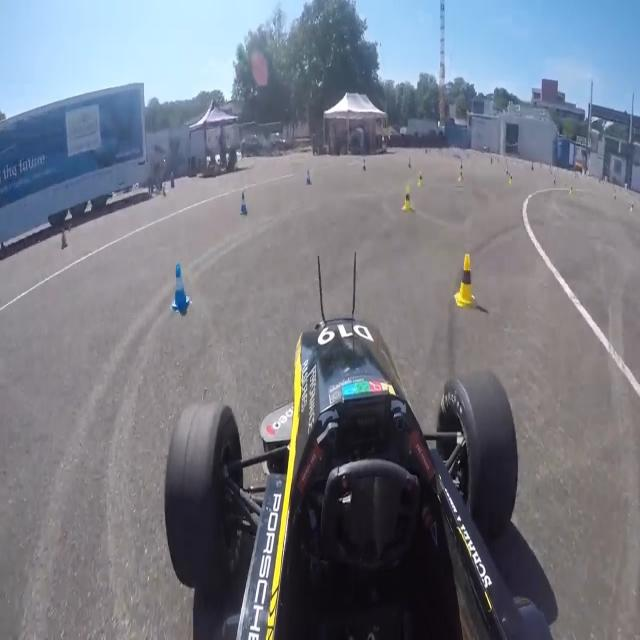blue_cone: (168, 262, 192, 316), (238, 189, 248, 219), (305, 166, 311, 187), (361, 157, 366, 172)
yellow_cone: (451, 242, 478, 312), (402, 180, 414, 215), (417, 173, 423, 189), (459, 167, 463, 184), (509, 174, 513, 188)
